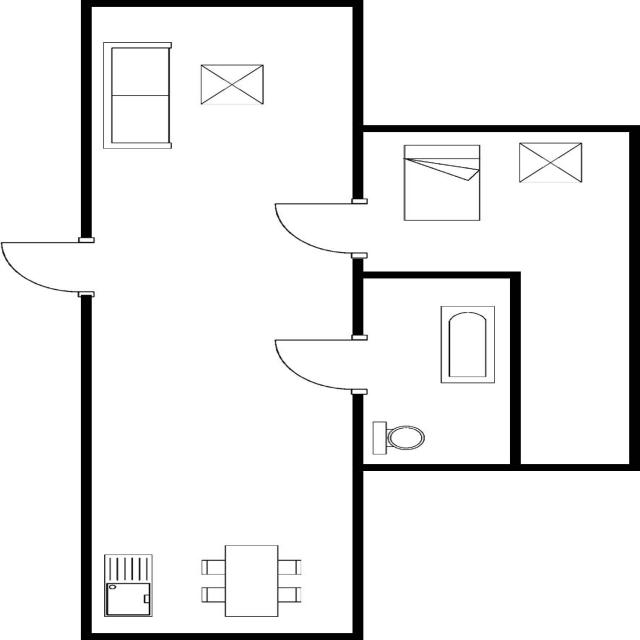bed: (399, 141, 485, 225)
coffee_table: (193, 61, 269, 109), (515, 140, 585, 186)
dining_table: (197, 541, 307, 619)
large_sink: (366, 418, 428, 457)
large_sofa: (96, 36, 178, 154)
sink: (99, 551, 158, 621)
tub: (435, 302, 500, 386)
